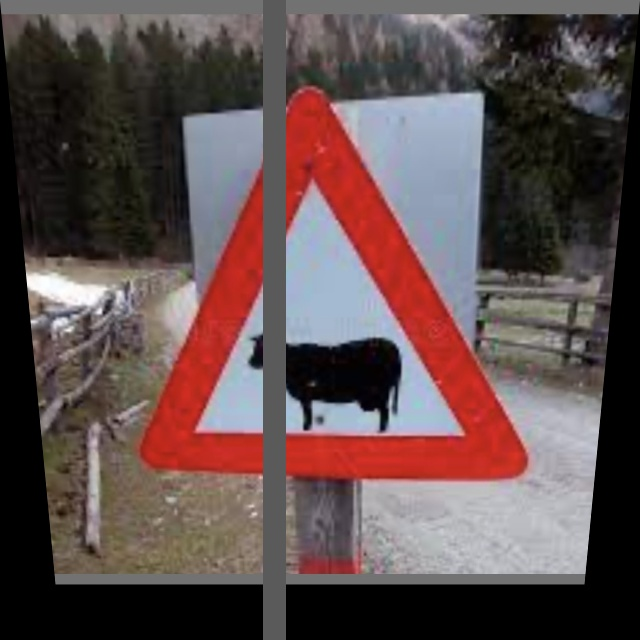Cattle: (149, 111, 535, 481)
